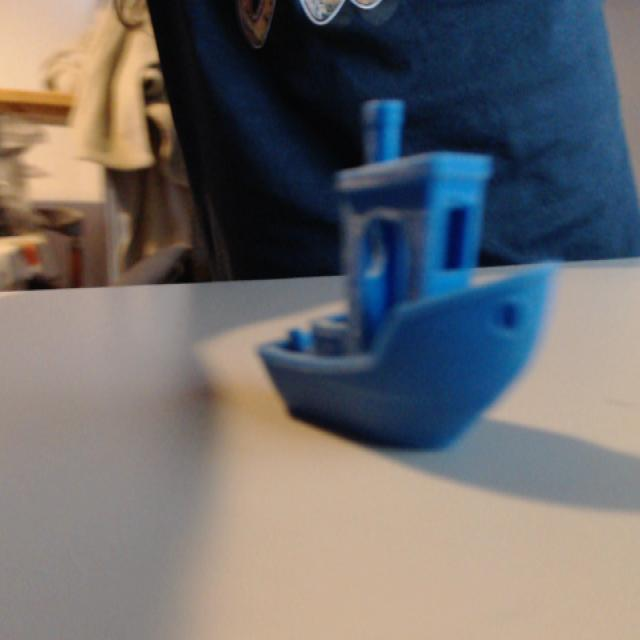benchy: (254, 101, 560, 456)
